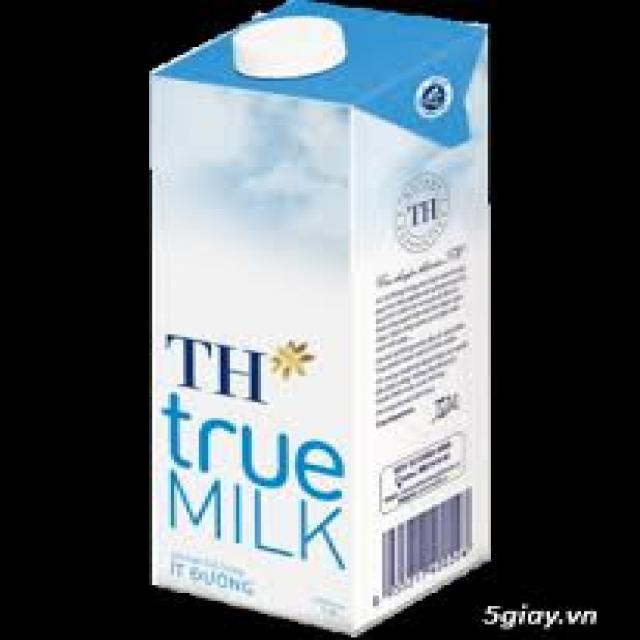non_white_jug: (117, 3, 518, 640)
